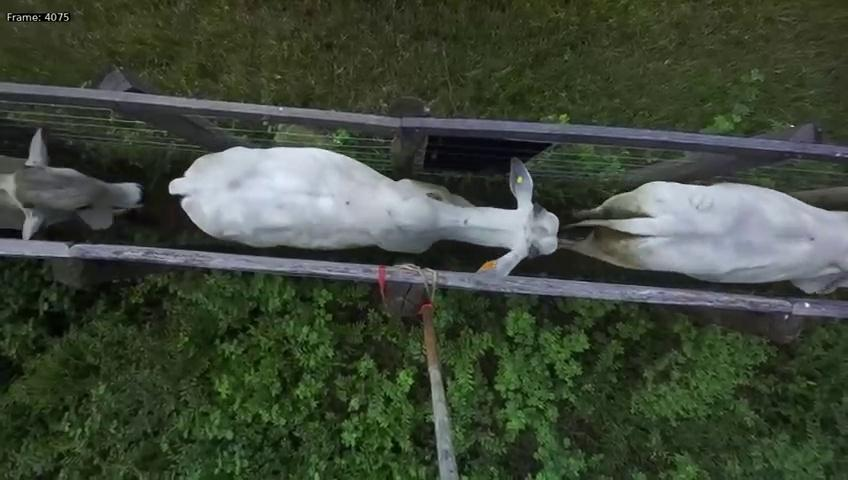cattle: (165, 125, 562, 276), (567, 172, 848, 296), (0, 124, 145, 241)
